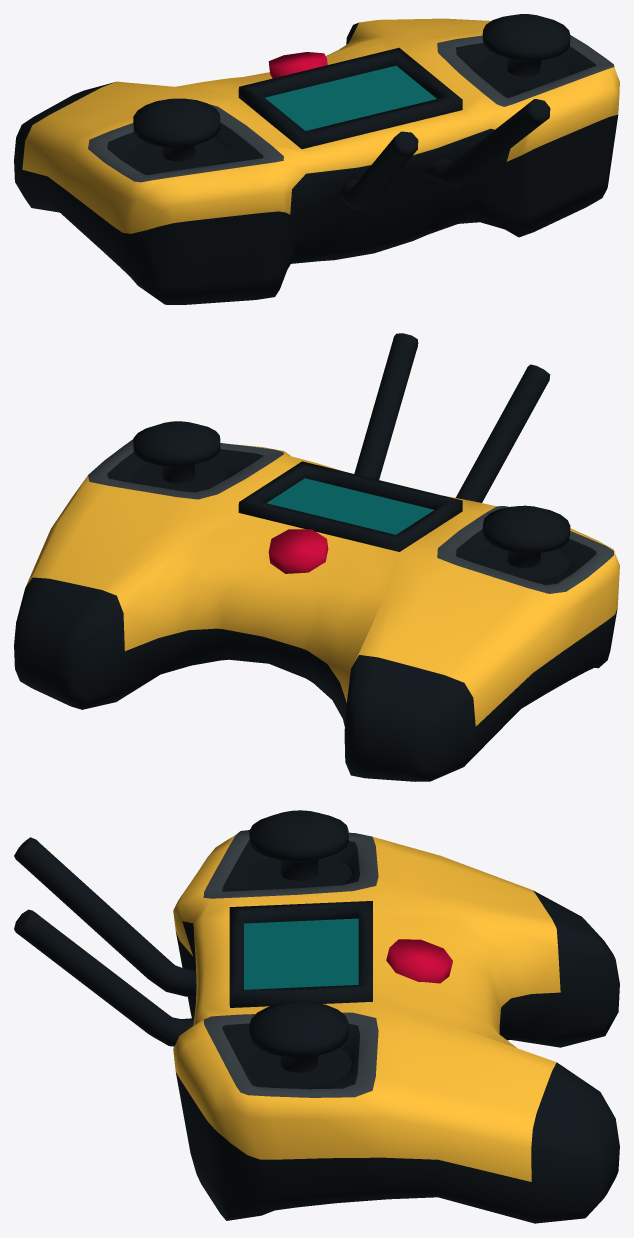
Rendered from Mini_Drone_Set_1_Yellow_Controller_00.fbx.
The picture shows the model from 3 angles, top to bottom: view 1: azimuth 30°, elevation 25°; view 2: azimuth 150°, elevation 25°; view 3: azimuth 270°, elevation 25°; orthographic projection. The views are drawn at different scales.
Visible parts, largest first — view 1: Drone.Controller_3; view 2: Drone.Controller_3; view 3: Drone.Controller_3.
Boxes of the visible parts, x1=… form: Drone.Controller_3: x1=14, y1=14, x2=619, y2=304; Drone.Controller_3: x1=14, y1=333, x2=619, y2=781; Drone.Controller_3: x1=14, y1=810, x2=619, y2=1223.
Size of the model in its own units: 0.2865 by 0.117 by 0.2677.
Materials: 1 (1 with a texture image).
